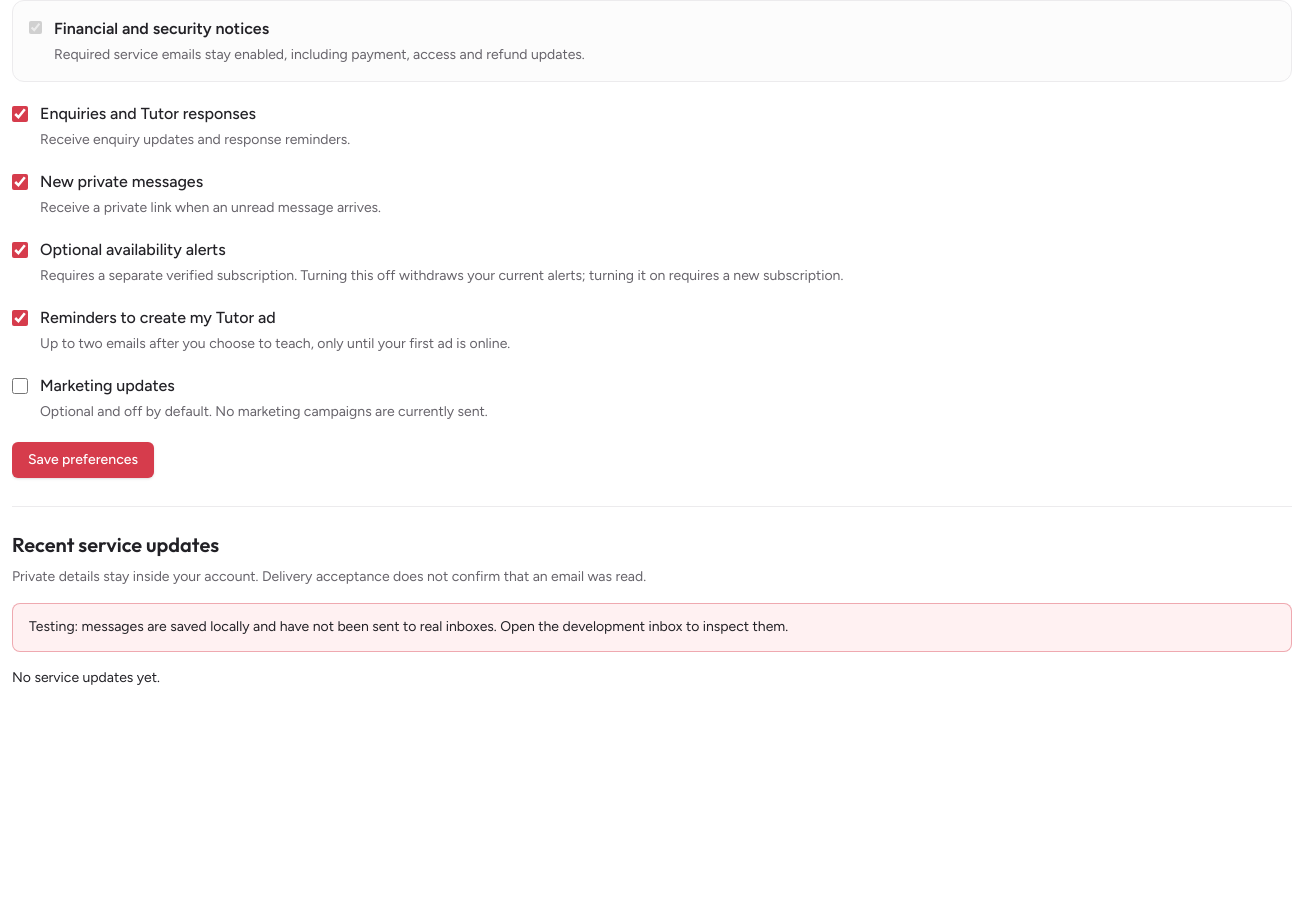
Test: saves explicit optional preferences while financial service notices remain enabled
Expected: the checkbox labelled "Financial and security notices" is disabled, [29,21,42,34]
Expected: the checkbox labelled "Marketing updates" is not checked, [12,378,28,394]
Click the checkbox labelled "Reminders to create my Tutor ad".
click(20, 318)  # box [12,310,28,326]
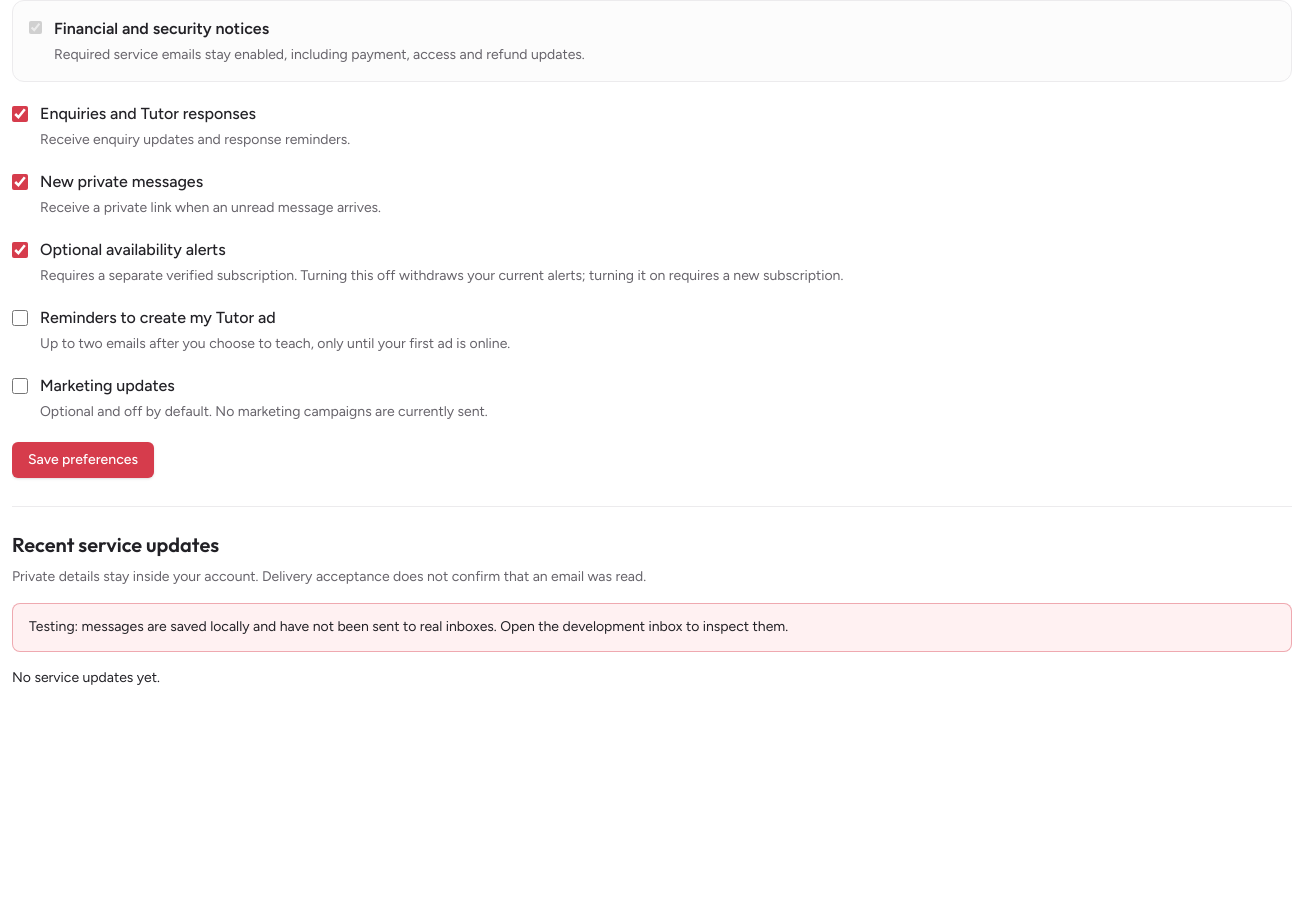
Click the checkbox labelled "New private messages".
click(20, 182)  # box [12,174,28,190]
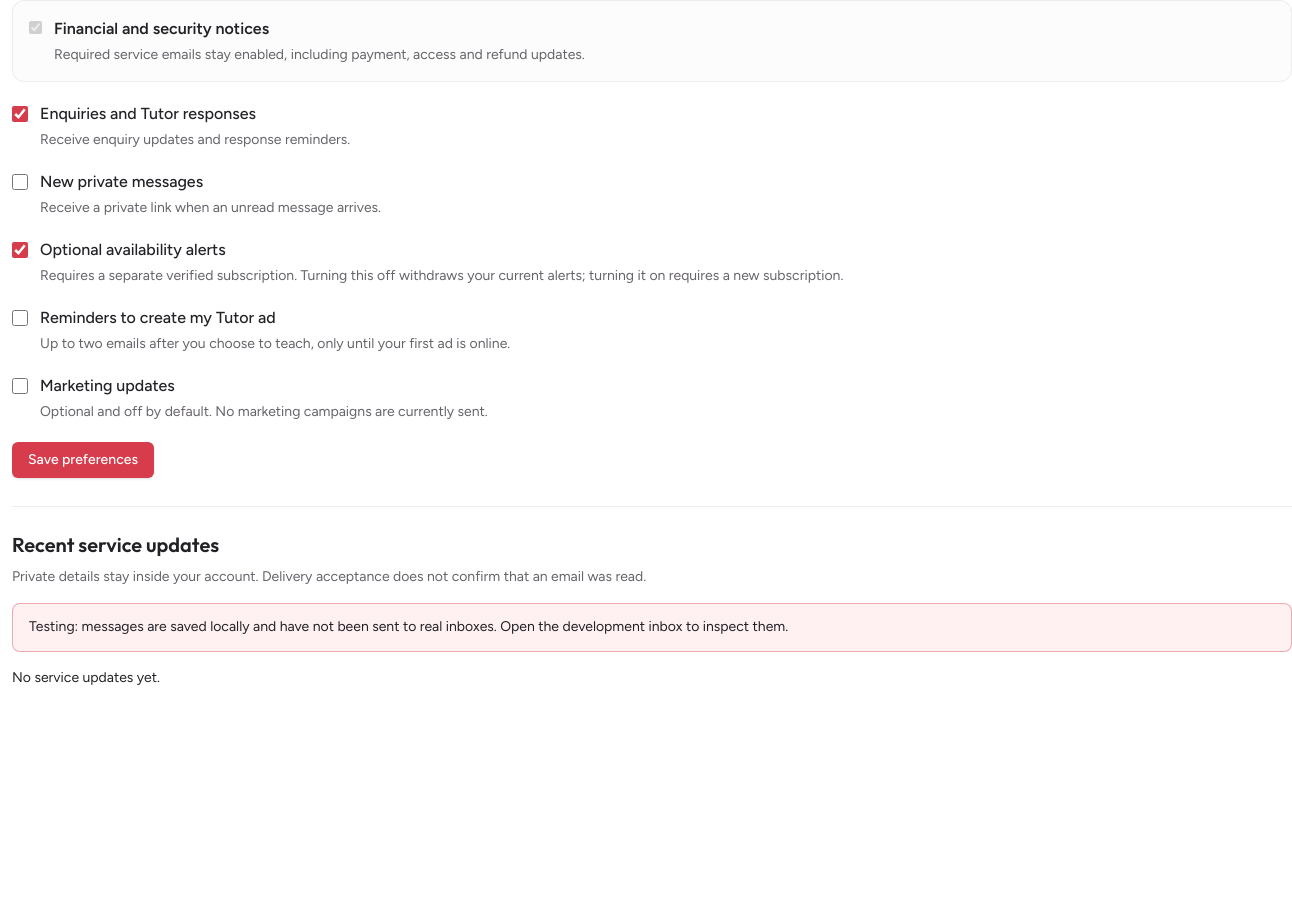
Click the button "Save preferences".
click(83, 460)  # box [12,442,154,478]
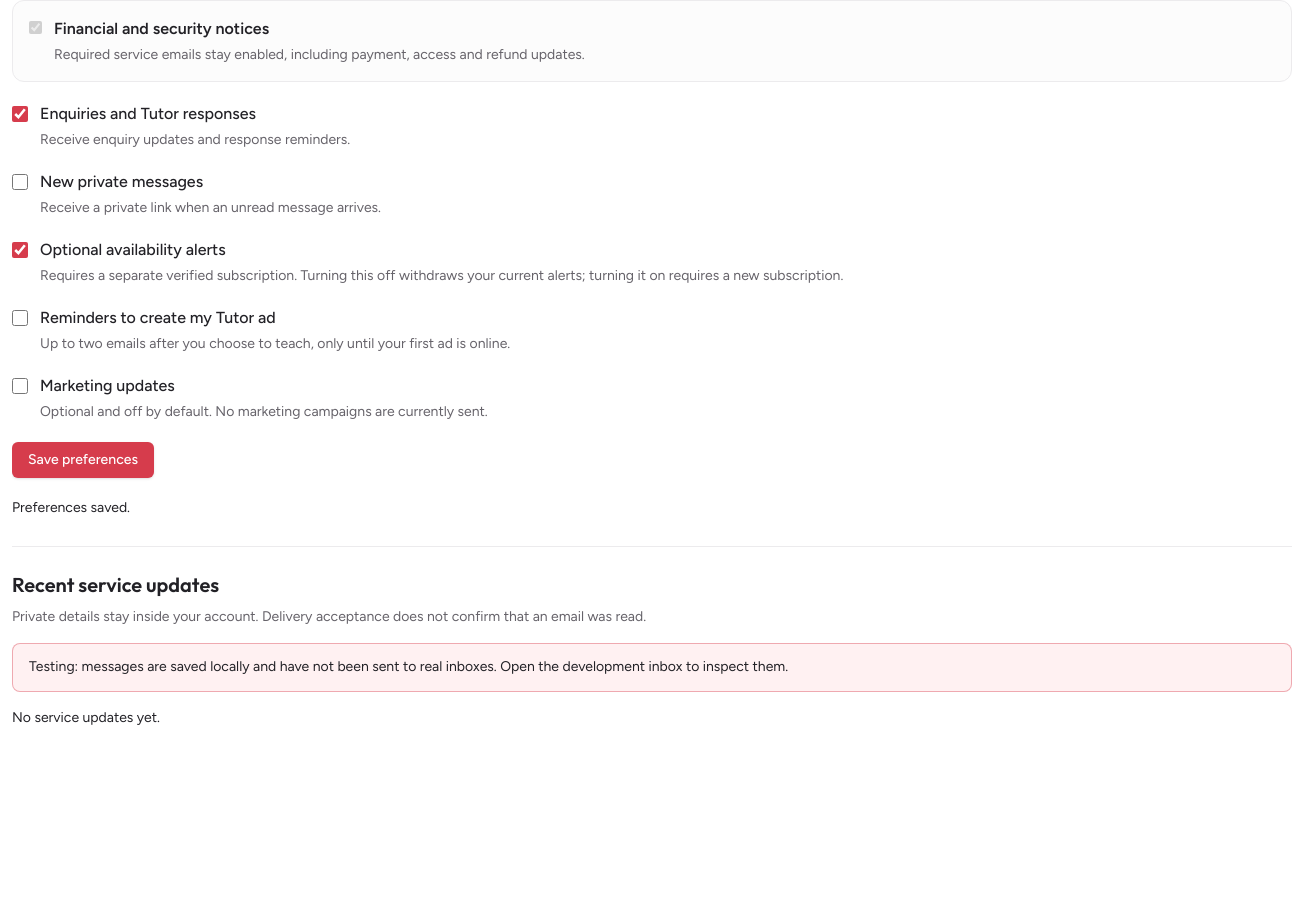
Expected: the text "saved locally" is shown, [29,658,788,675]
Result: the text "Preferences saved." is shown at [12,499,130,516]
